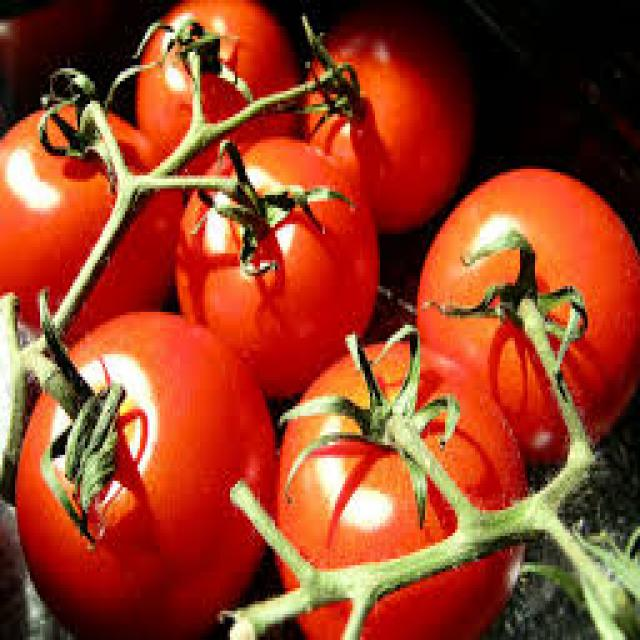organic waste: (12, 315, 272, 637), (273, 322, 525, 636), (412, 159, 638, 465), (175, 133, 375, 390), (0, 84, 180, 338), (300, 16, 475, 237), (132, 3, 302, 169)
